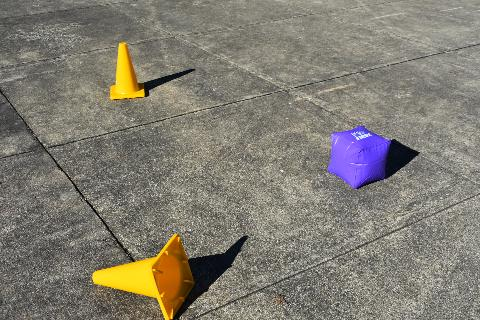cone: (93, 234, 195, 320), (111, 42, 145, 100)
cube: (328, 125, 392, 188)
